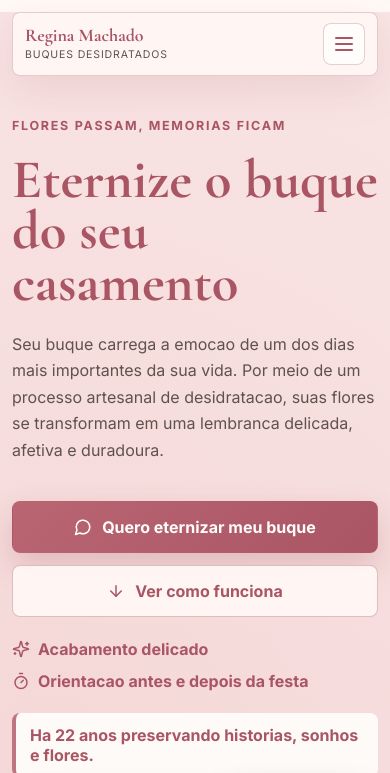
Test case: App › opens and closes the mobile navigation
Click the button named "abrir menu" at (344, 44), box [323,23,365,65]
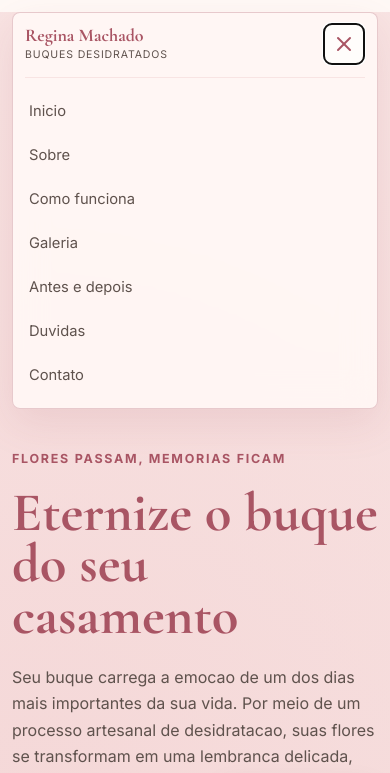
Expected: the button named "fechar menu" is expanded, [323,23,365,65]
Click the link "Sobre" at (50, 155), box [29,146,70,164]
(page scrolled)
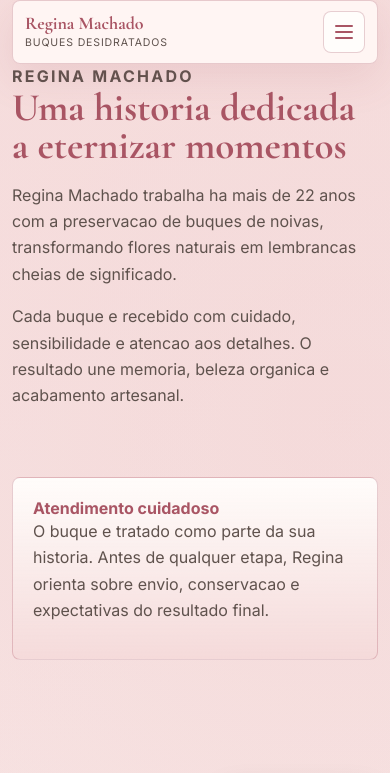
Expected: the button named "abrir menu" is collapsed, [323,11,365,53]
